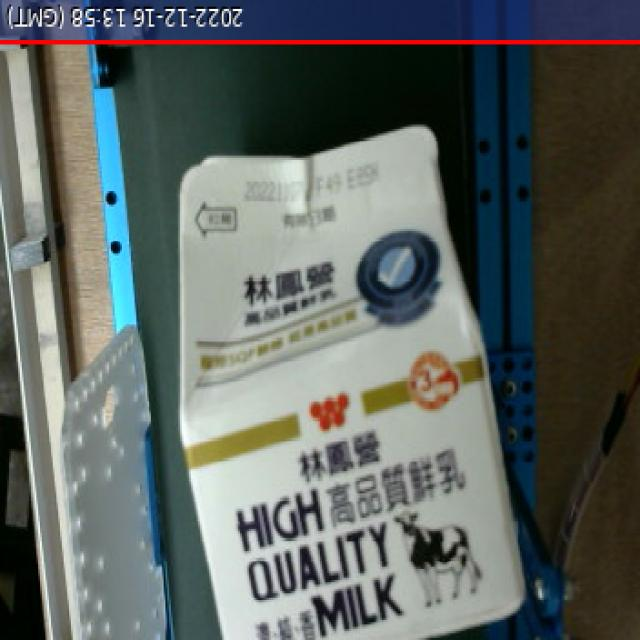non_white_jug: (163, 115, 550, 640)
